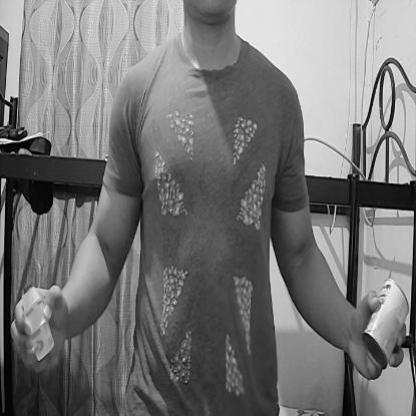Can: (362, 277, 408, 369)
Others: (18, 284, 56, 362)
